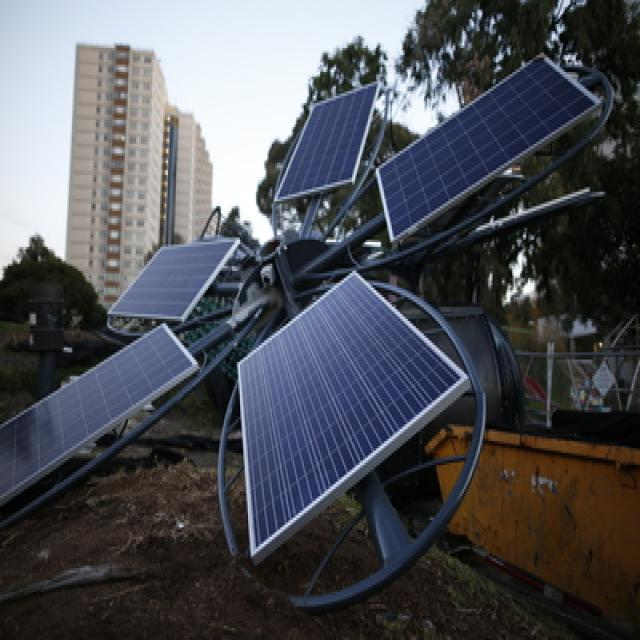clean-solar-panel: (238, 273, 469, 563), (379, 56, 600, 241), (1, 324, 199, 505), (275, 82, 380, 202), (109, 241, 240, 321)
